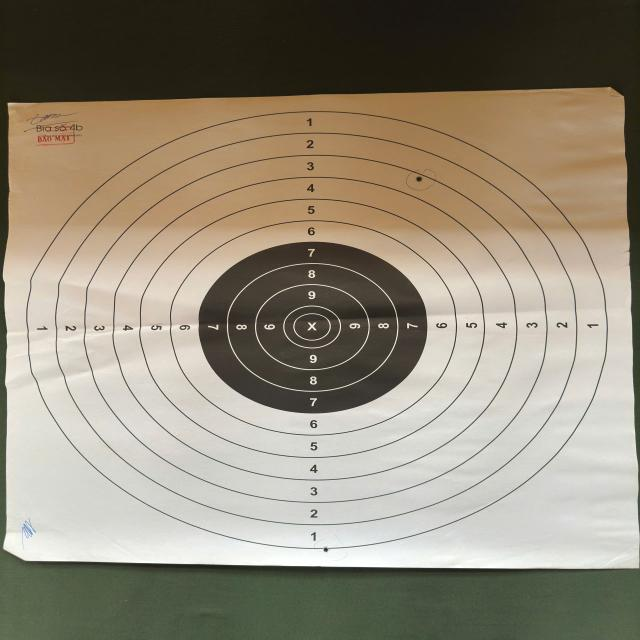bullet: (416, 176, 424, 184)
target: (4, 96, 624, 568)
